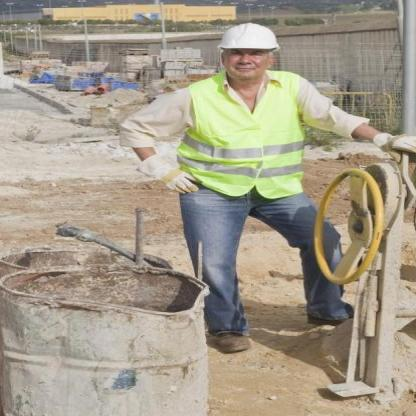helmet: (210, 18, 288, 84)
